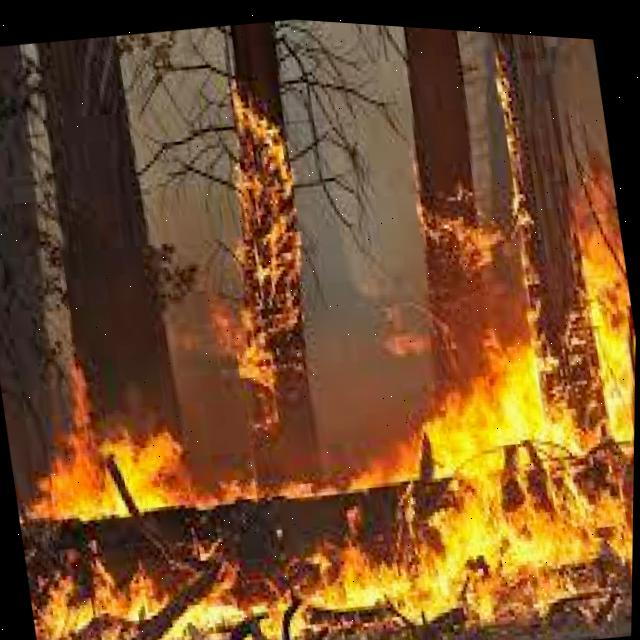fire: (34, 208, 637, 640), (232, 83, 307, 402), (30, 397, 189, 519)
smoke: (295, 177, 442, 421), (178, 370, 256, 470)
